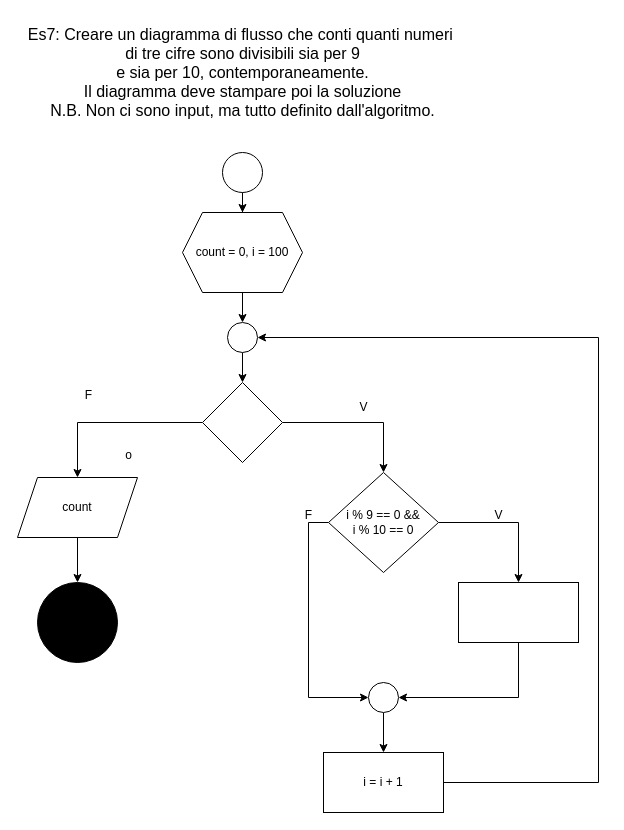
Some shapes in this 624 by 830 pixel diagram are drawn without their labels. The centre of each missing label's shape, as x and y in pixels:
"count = count + 1" belongs at (x=518, y=612).
"i <= 999" belongs at (x=242, y=422).
